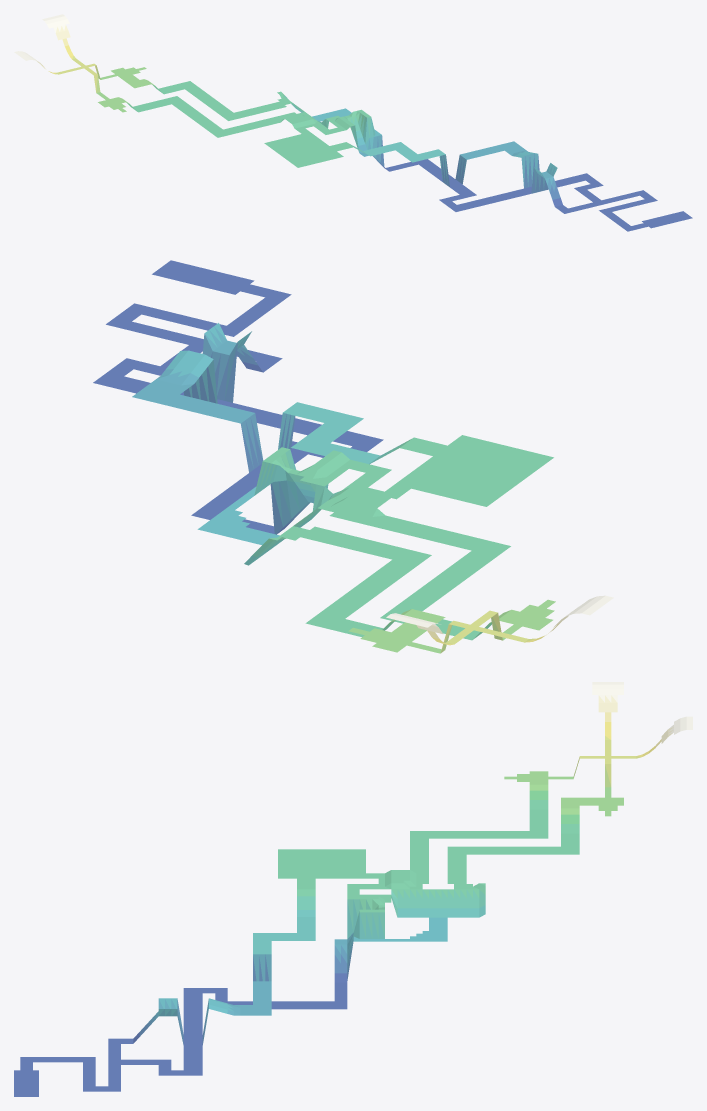
The model's file is aerial.glb.
3 renders of one model, top to bottom at view 1: azimuth 30°, elevation 25°; view 2: azimuth 150°, elevation 25°; view 3: azimuth 270°, elevation 25°, orthographic. The views are drawn at different scales.
Visible parts, largest first — view 1: aerial; view 2: aerial; view 3: aerial.
Boxes of the visible parts, x1,y1,x2,y2 form: aerial: (14,14,692,231); aerial: (93,260,613,653); aerial: (14,682,692,1096).
Bounding box in the file's own units: 106 × 23.4 × 108.
